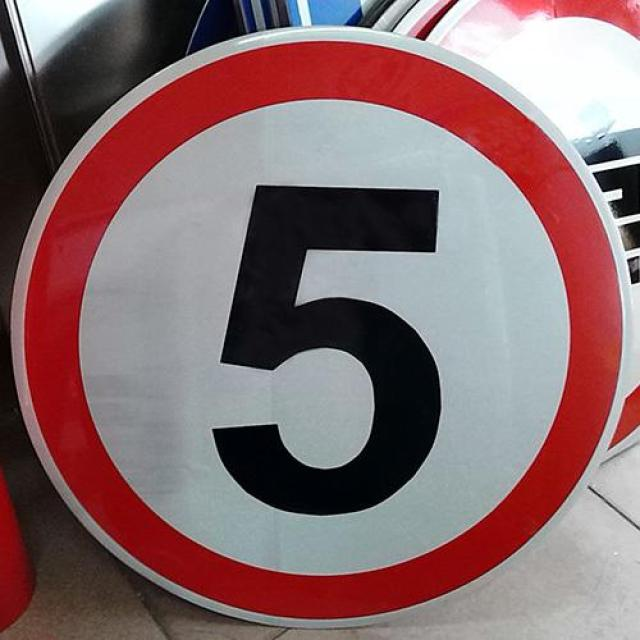speed limit 10: (8, 28, 635, 627)
